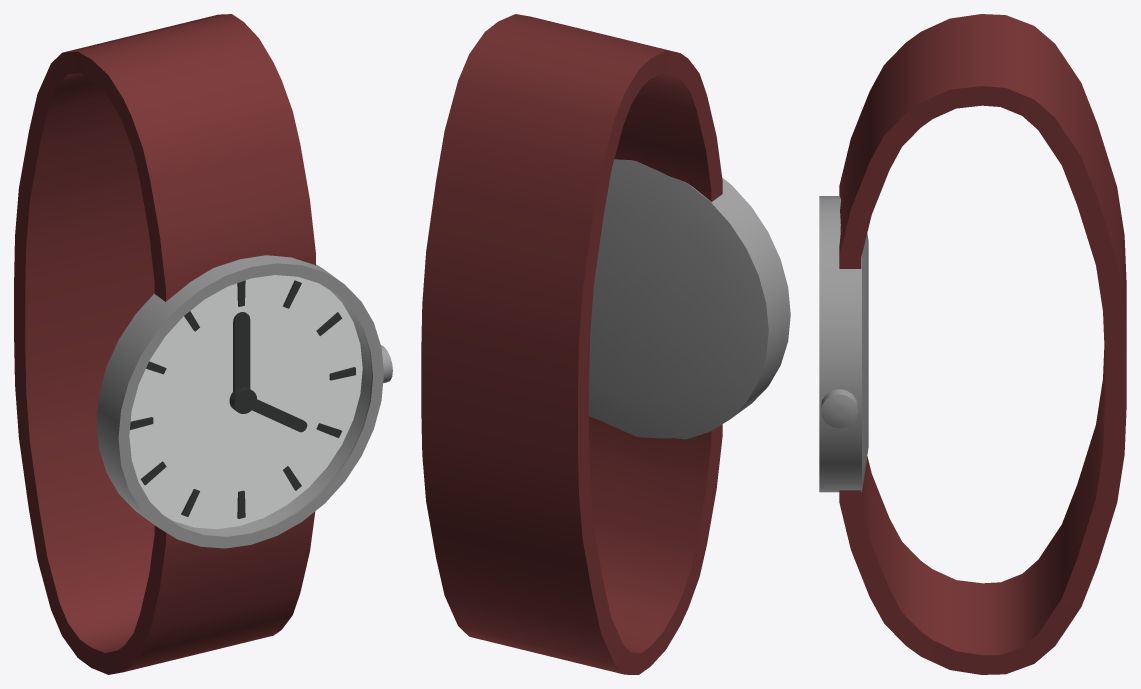
The model's file is watch.glb.
The picture shows the model from 3 angles, left to right: view 1: azimuth 30°, elevation 25°; view 2: azimuth 150°, elevation 25°; view 3: azimuth 270°, elevation 25°; orthographic projection. The views are drawn at different scales.
Visible parts, largest first — view 1: Circle.2412; view 2: Circle.2412; view 3: Circle.2412.
Boxes of the visible parts, x1,y1,x2,y2 form: Circle.2412: [14, 14, 392, 674]; Circle.2412: [421, 14, 790, 674]; Circle.2412: [819, 14, 1126, 674].
Size of the model in its own units: 1.28 by 2.69 by 1.27.
2 materials, 1 textured.
